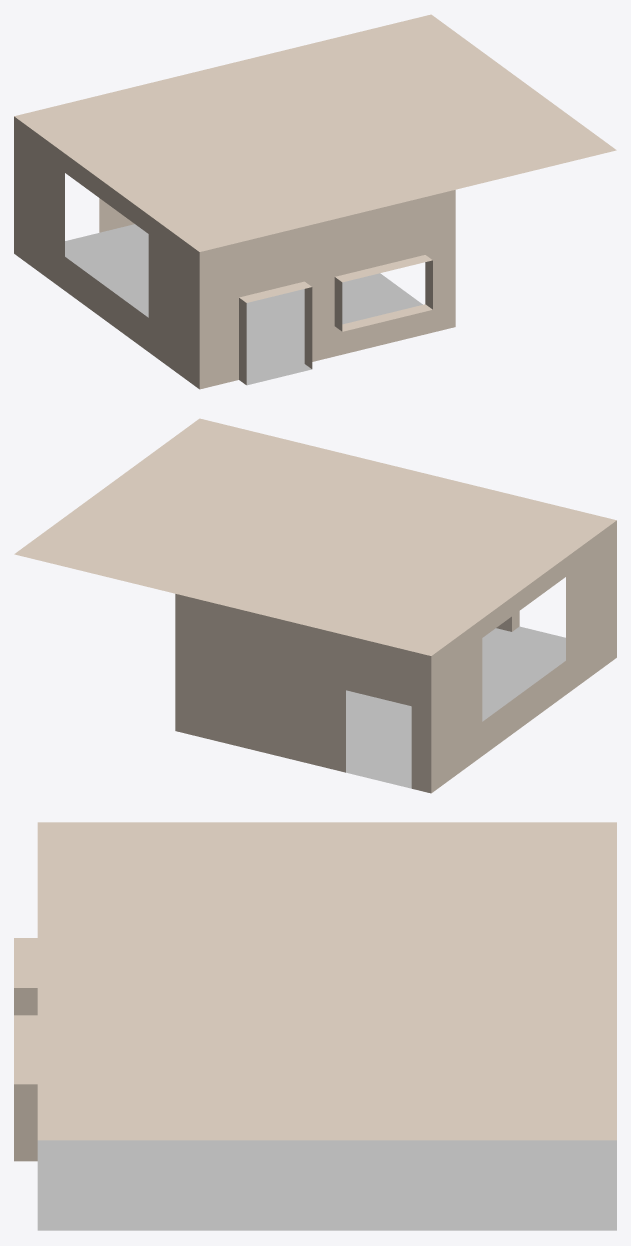
The model's file is Brief-Room.obj.
3 renders of one model, top to bottom at view 1: azimuth 30°, elevation 25°; view 2: azimuth 150°, elevation 25°; view 3: azimuth 270°, elevation 25°, orthographic. The views are drawn at different scales.
Visible parts, largest first — view 1: Brief-Room; view 2: Brief-Room; view 3: Brief-Room.
Boxes of the visible parts, x1=… form: Brief-Room: x1=14, y1=14, x2=616, y2=389; Brief-Room: x1=14, y1=418, x2=616, y2=793; Brief-Room: x1=14, y1=822, x2=616, y2=1230.
Size of the model in its own units: 15.9 by 5 by 12.75.
